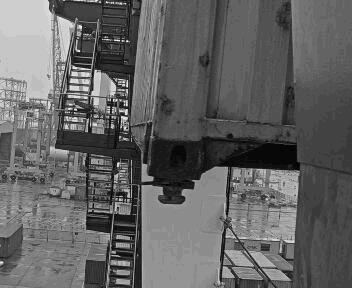twist_lock_1: (154, 141, 180, 163)
